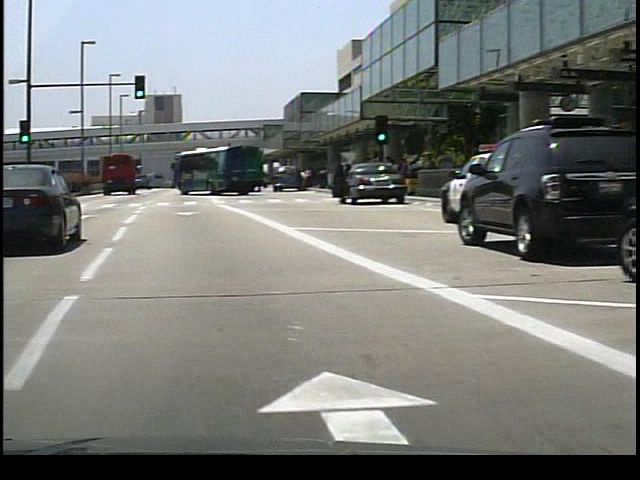person: (294, 166, 305, 191)
